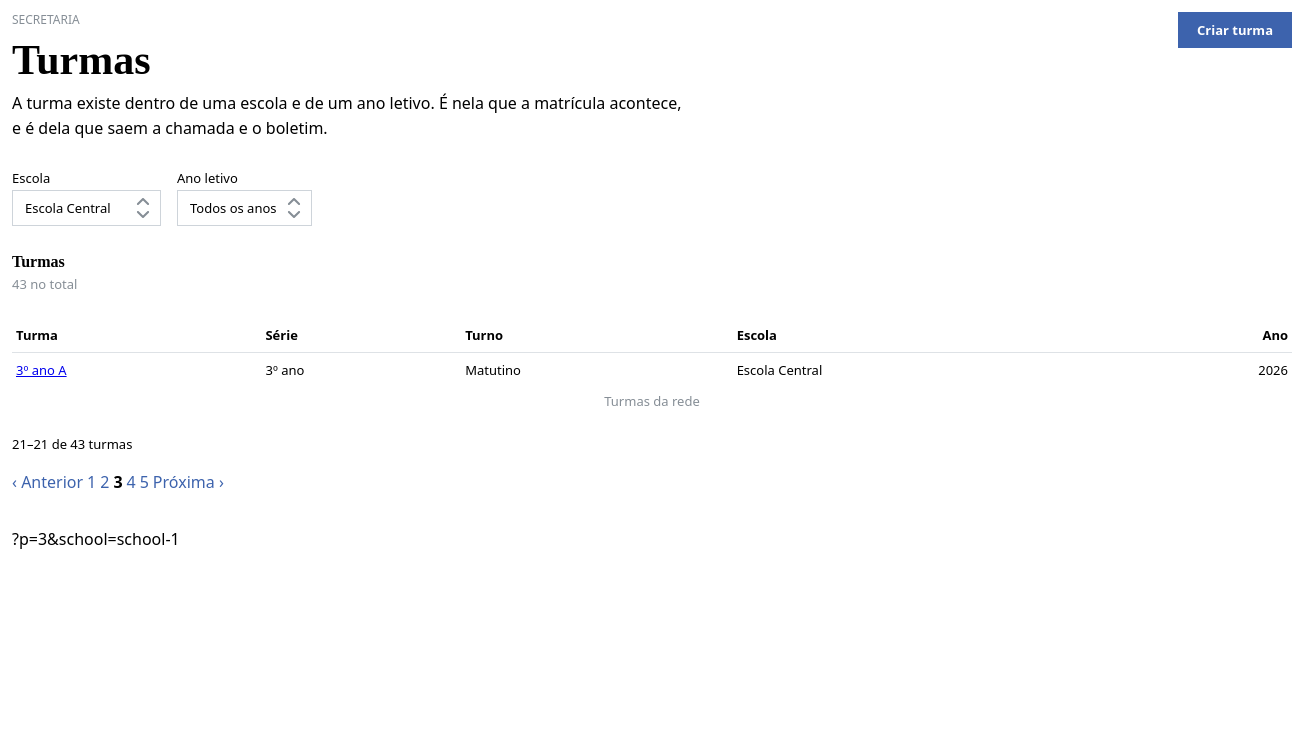
it: ClassGroupList › changing the year filter drops the page too, and keeps the school filter
The image size is (1292, 732).
Check: the link "3º ano A" is shown, box [16, 361, 67, 379]
Select "2026" in the dropdown labelled "Ano letivo" at (244, 208), box [177, 190, 312, 226]
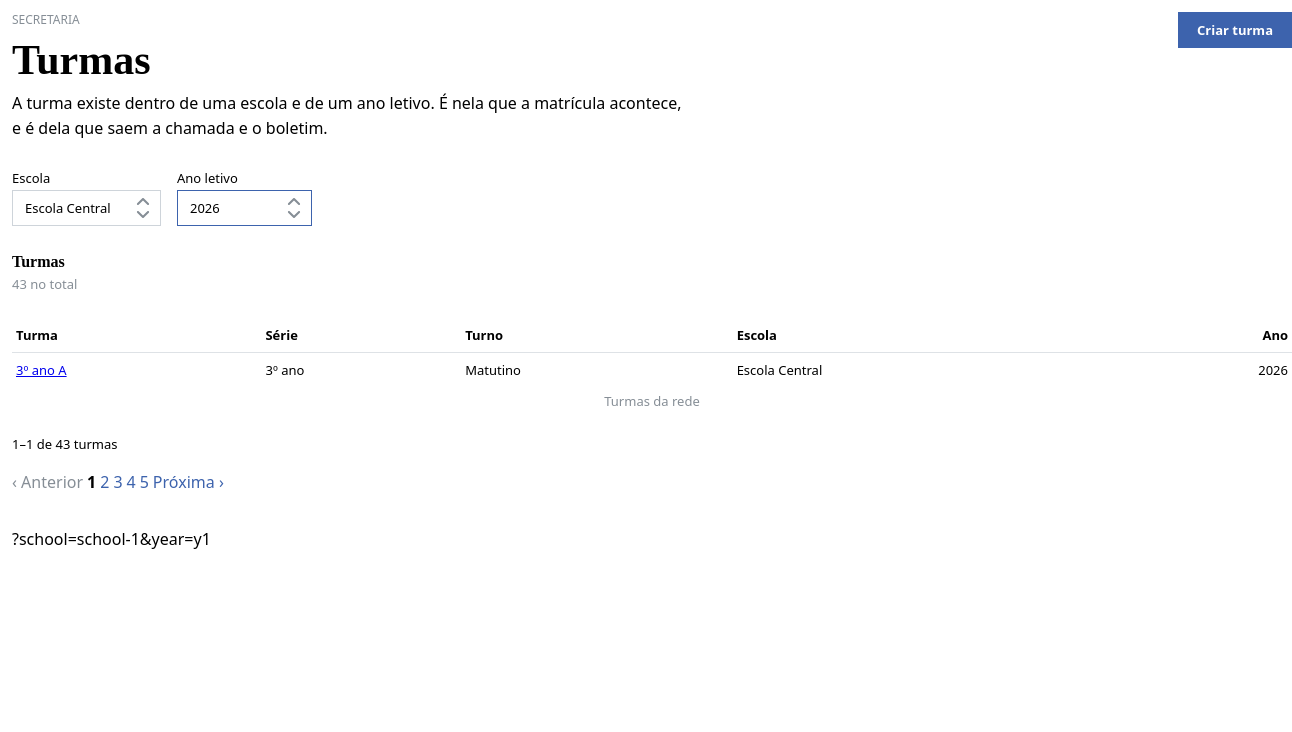
Check: the text with test id "endereco" shows "school=school-1", box [12, 528, 211, 550]
Check: the text with test id "endereco" shows "year=y1", box [12, 528, 211, 550]
Check: the text with test id "endereco" no longer shows "p="
